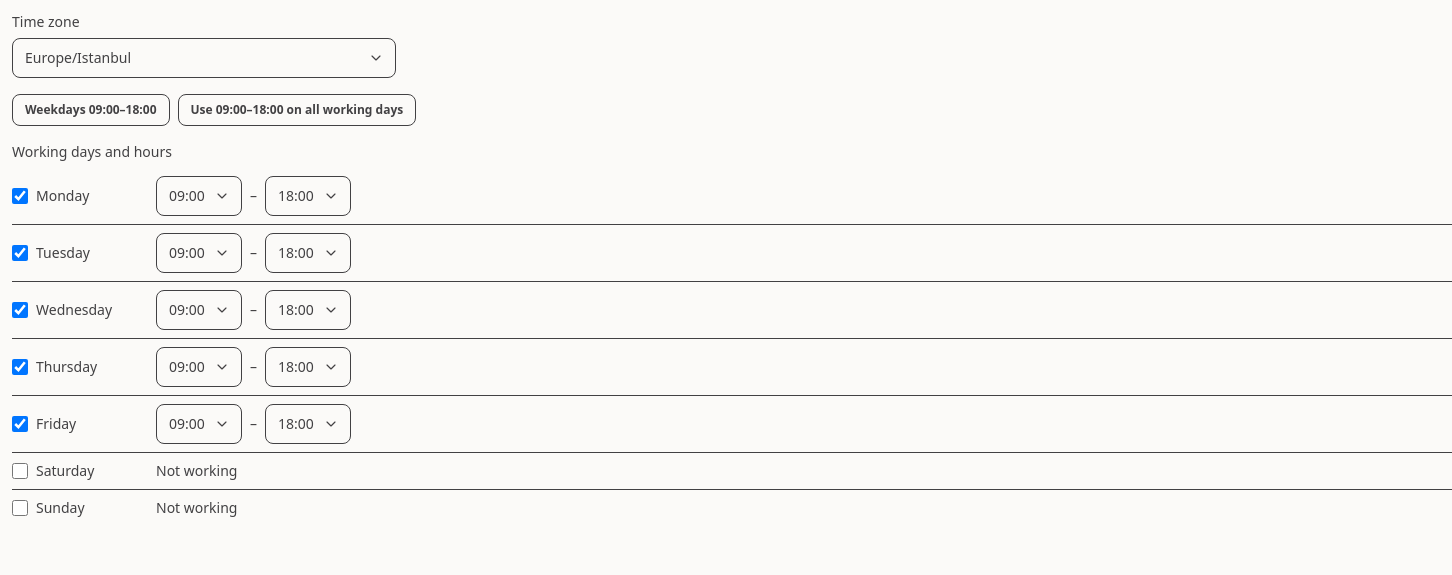
Test: WorkScheduleEditor › explains a backwards range
Select "08:00" in the dropdown named "Tuesday end time": (308, 253) [265,233,351,273]
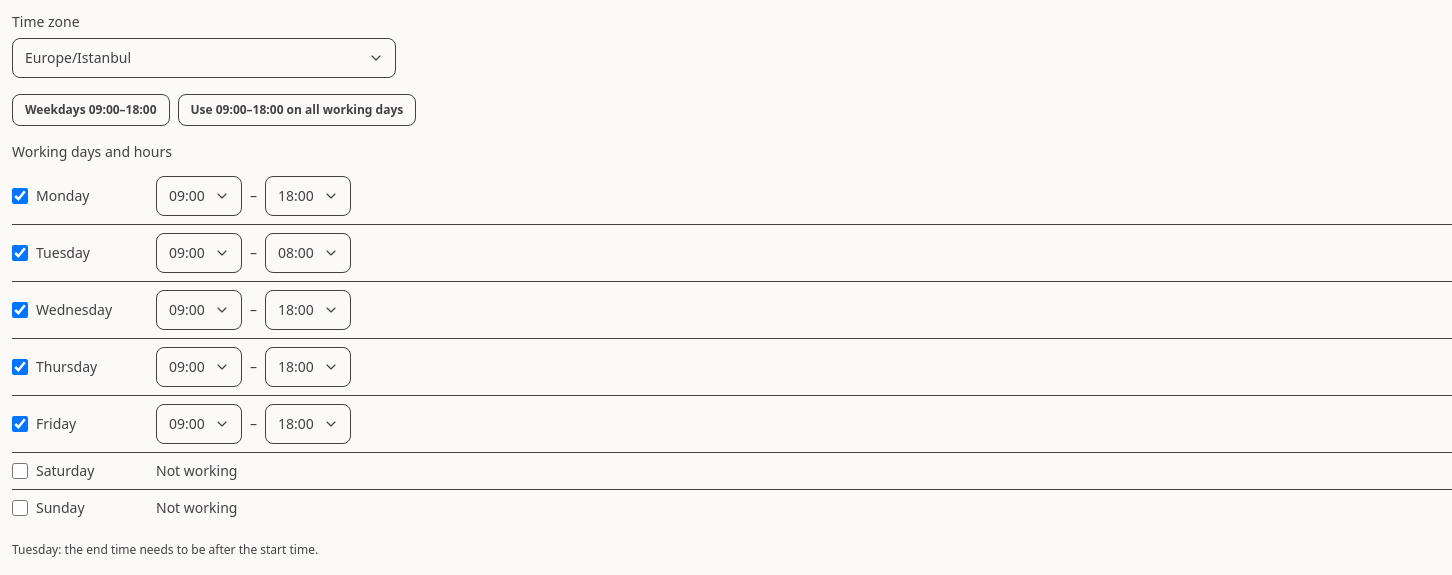
Expected: the message reads "Tuesday: the end time needs to be after the start time.", [12,541,318,558]
